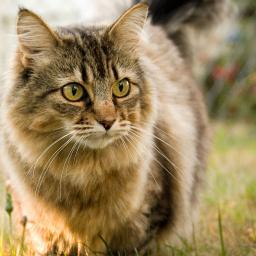catnose: (97, 115, 117, 131)
